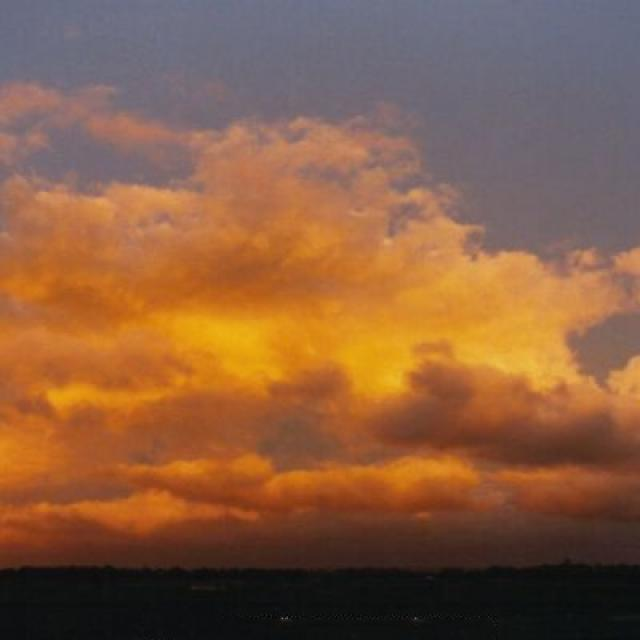As: (1, 28, 640, 529)
